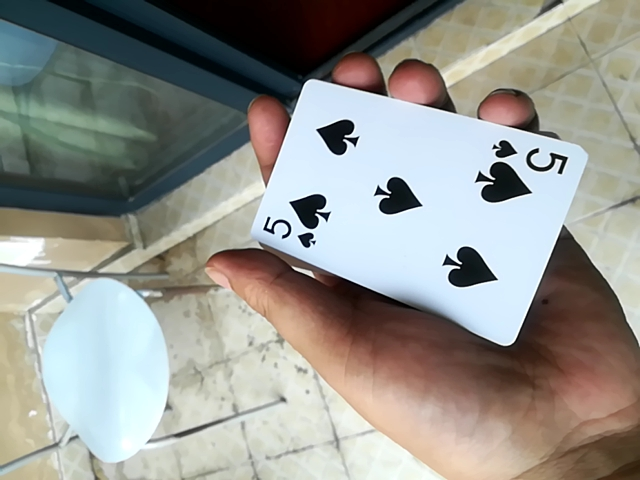ht 5: (240, 74, 589, 338)
